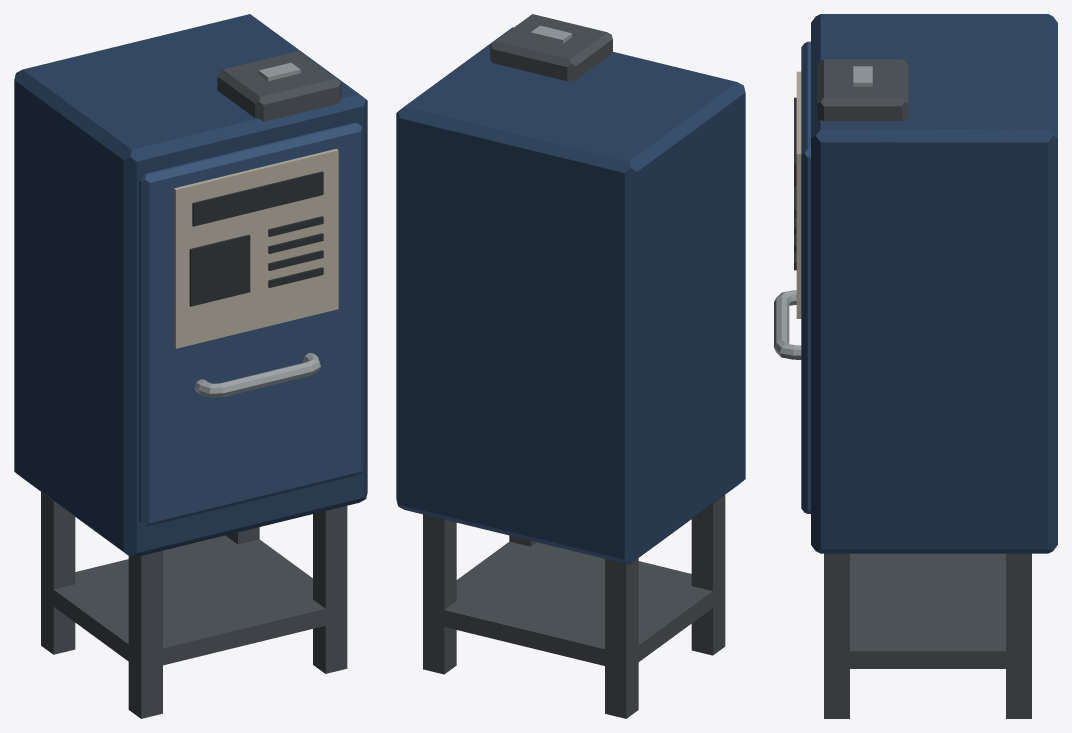
The model's file is distributeur_journaux.glb.
The picture shows the model from 3 angles, left to right: view 1: azimuth 30°, elevation 25°; view 2: azimuth 150°, elevation 25°; view 3: azimuth 270°, elevation 25°; orthographic projection. The views are drawn at different scales.
Parts seen in each view (by area): view 1: cabinet, door, rail, paper, legs, coin_box, photo, headline, handle, columns; view 2: cabinet, rail, legs, coin_box; view 3: cabinet, rail, legs, coin_box, door, paper, handle.
Boxes of the visible parts, x1=… form: cabinet: x1=14, y1=14, x2=367, y2=557; door: x1=139, y1=122, x2=363, y2=526; rail: x1=41, y1=535, x2=347, y2=670; paper: x1=174, y1=148, x2=338, y2=348; legs: x1=41, y1=492, x2=347, y2=718; coin_box: x1=217, y1=51, x2=341, y2=121; photo: x1=189, y1=234, x2=250, y2=306; headline: x1=192, y1=171, x2=323, y2=226; handle: x1=194, y1=353, x2=320, y2=397; columns: x1=268, y1=216, x2=323, y2=287; cabinet: x1=396, y1=27, x2=745, y2=564; rail: x1=430, y1=541, x2=725, y2=671; legs: x1=423, y1=495, x2=725, y2=718; coin_box: x1=490, y1=14, x2=612, y2=81; cabinet: x1=811, y1=14, x2=1057, y2=553; rail: x1=850, y1=553, x2=1005, y2=668; legs: x1=824, y1=553, x2=1031, y2=718; coin_box: x1=817, y1=59, x2=908, y2=120; door: x1=801, y1=41, x2=810, y2=513; paper: x1=796, y1=71, x2=801, y2=318; handle: x1=774, y1=290, x2=801, y2=359.
Size of the model in its own units: 0.45 by 1.05 by 0.4368.
6 materials, 6 textured.
